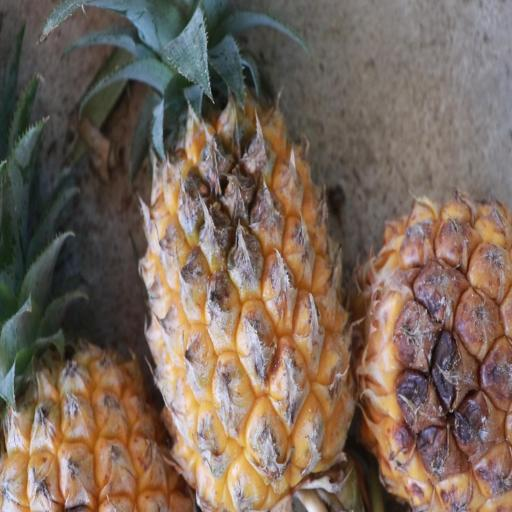Pineapple - v8 v1: (144, 4, 360, 512), (357, 191, 512, 512)
